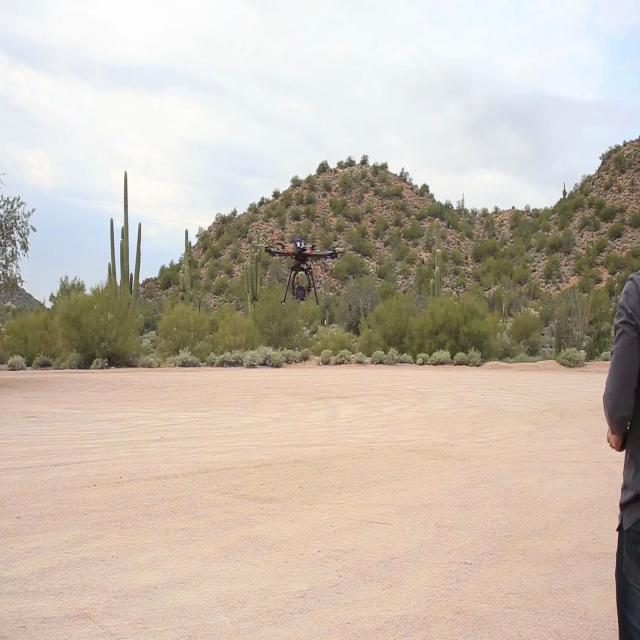drone: (264, 218, 345, 314)
